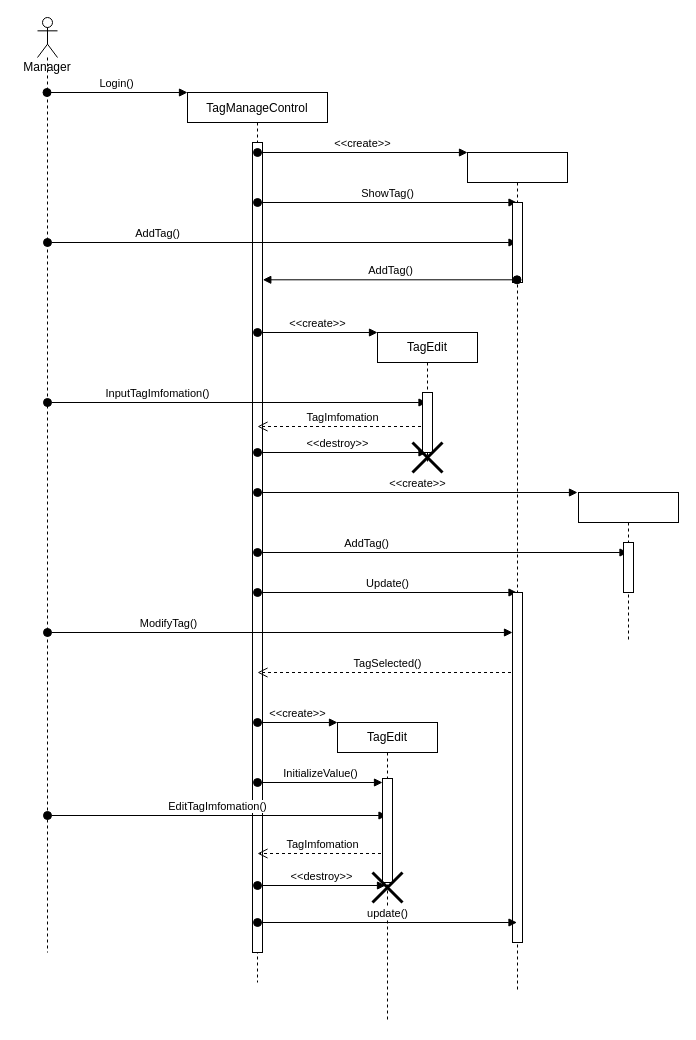
Image size: 696x1040. Some labels were removed from this diagram. Here are the shapes that lost their labels. From the top down, the box of each, then its label:
(466, 152, 568, 992): TagPage
(578, 492, 678, 642): Tag
